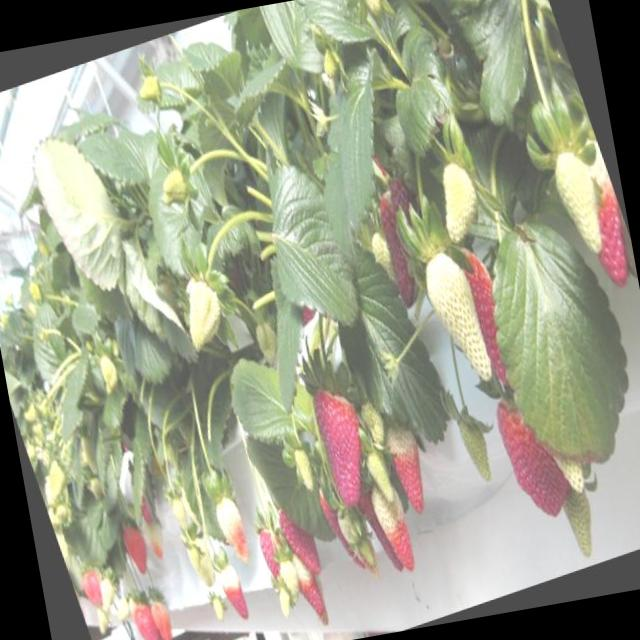ripe: (299, 378, 377, 508), (486, 391, 558, 502), (270, 492, 328, 582), (252, 509, 294, 584), (118, 522, 156, 576), (127, 598, 167, 640)
